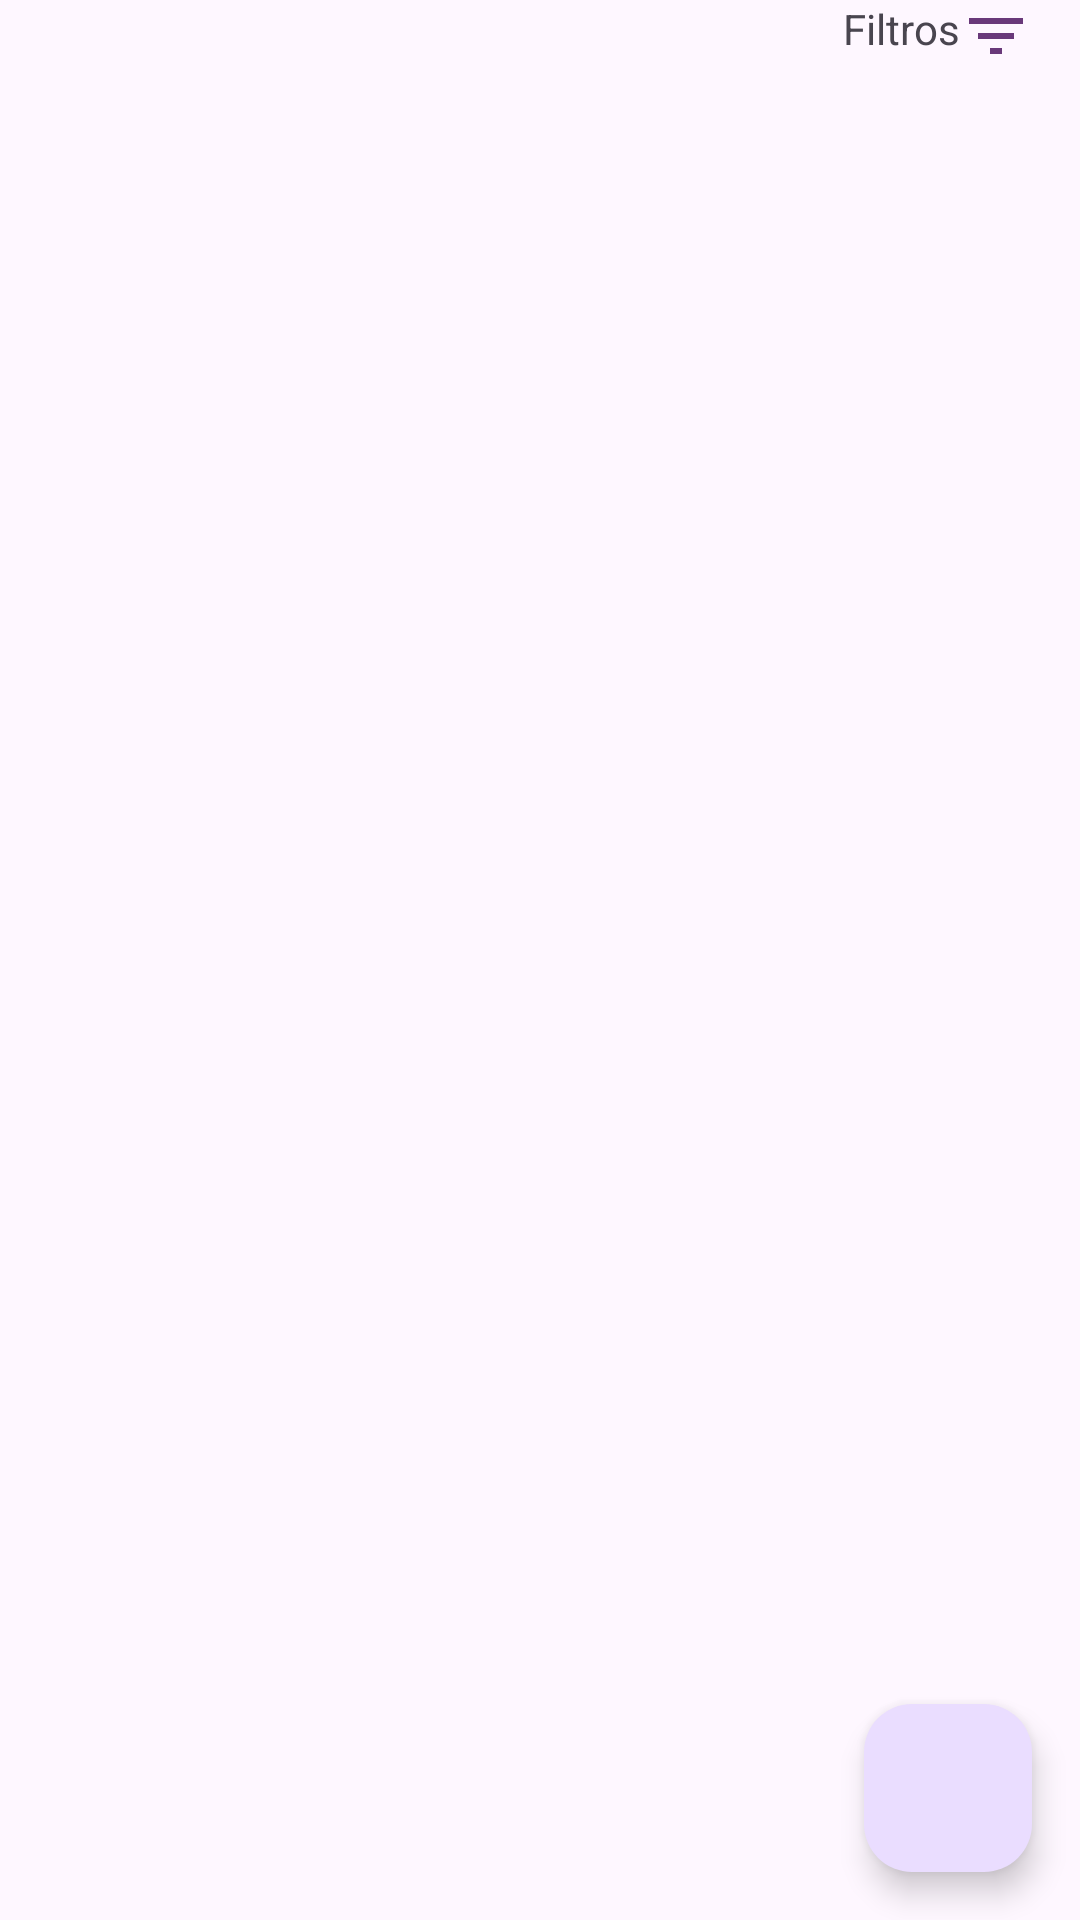

Where to tap for icons on this 1080*1920 app screen, as (x,y):
filter list: (996,36)
